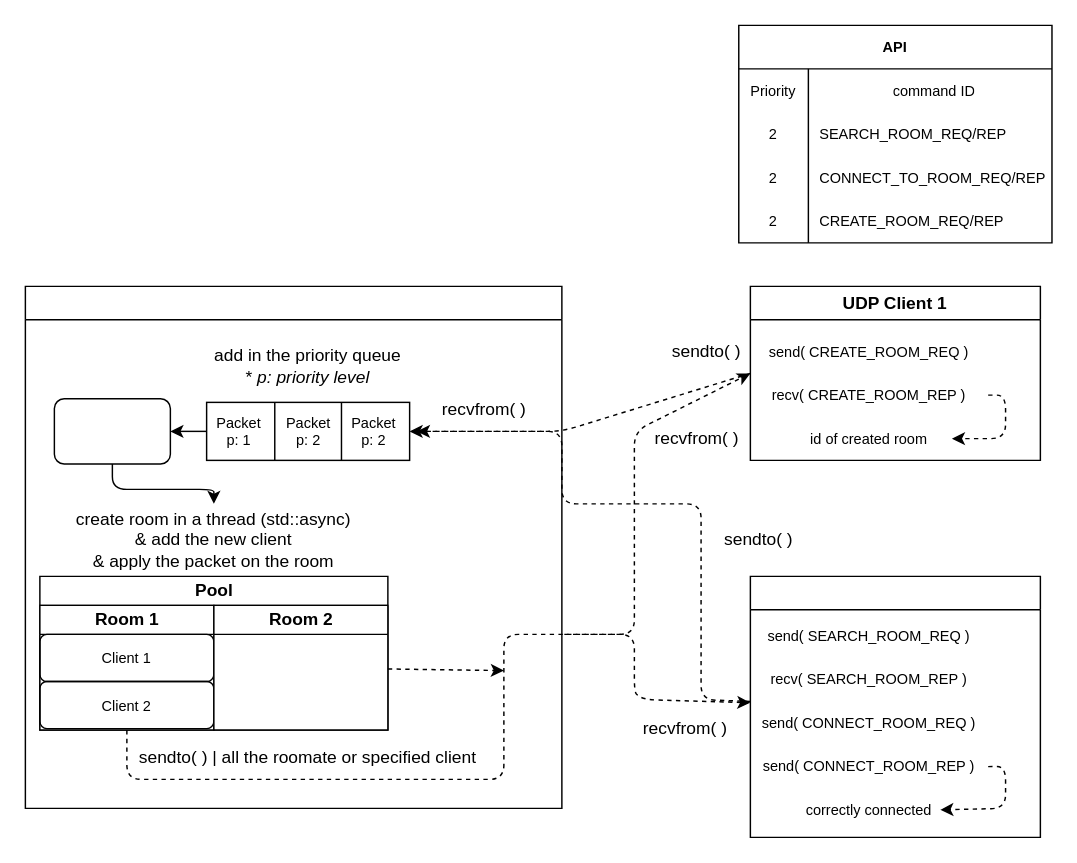
Image size: 1077x863. Some labels were removed from this diagram. The shapes that lost their labels are listed below. From the top down, each one's box as (x1, y1, x2, y2) in pixels, then its label:
(53, 397, 170, 464): Thread: Packet Handler
(24, 285, 562, 808): UDP Server
(749, 575, 1040, 837): UDP Client 2
